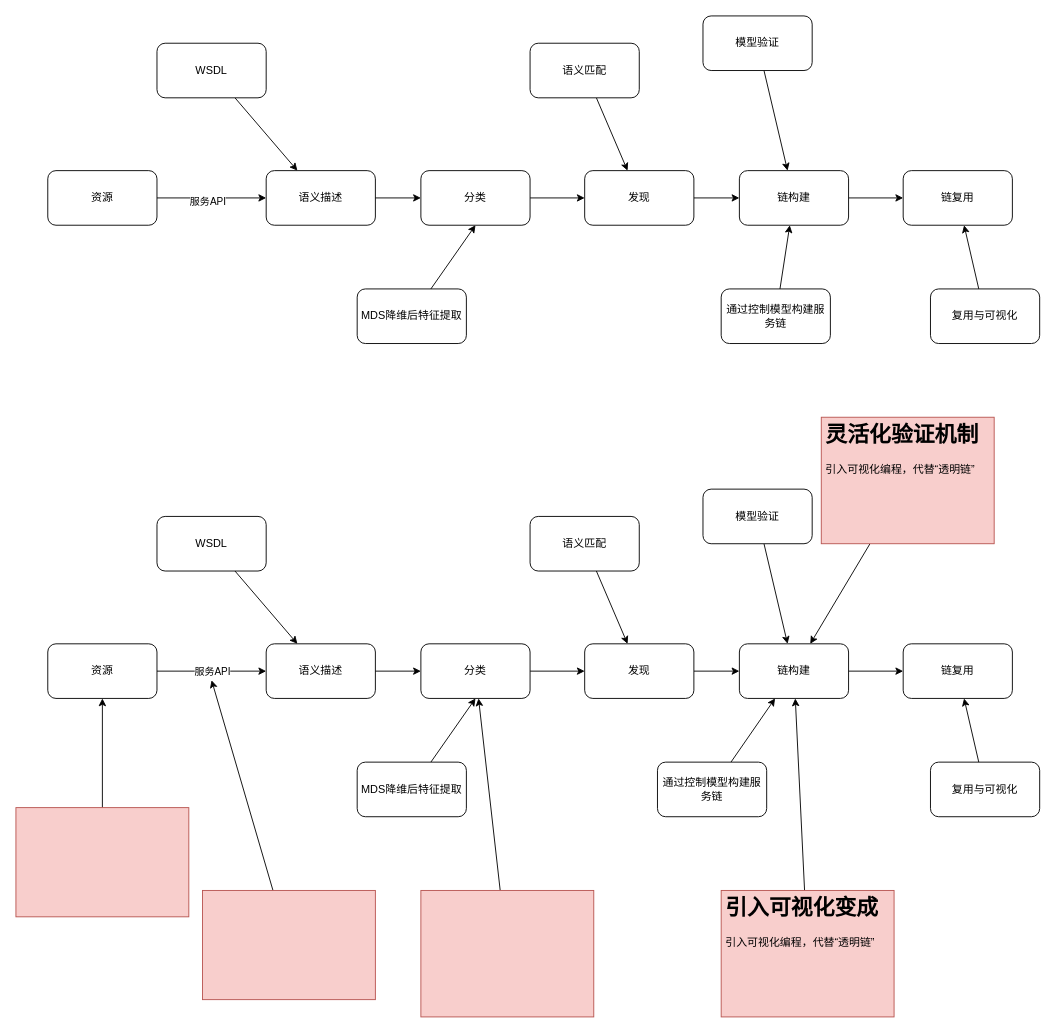
The diagram is 1056 pixels wide and 1033 high, and some of its shapes have lost their labels. Each missing label, with the centre of its shape:
利用人工智能替换MDS机制 MDS方法与人工智能机制很类似，可以用更通用和成熟的方案代替该环节: (507,953)
接口规范扩展 由SOAP向RESTful 扩展: (288,945)
资源类型扩展 由地理信息向建筑信息与IOT信息服务扩展: (102,862)
